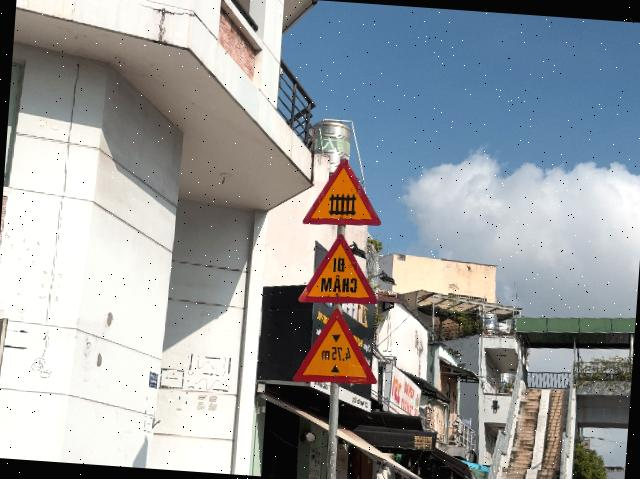chieu-cao-tinh-khong-thuc-te: (292, 304, 382, 388)
di-cham: (297, 230, 382, 308)
noi-giao-nhau-voi-duong-sat-co-rao-chan: (302, 154, 385, 229)
